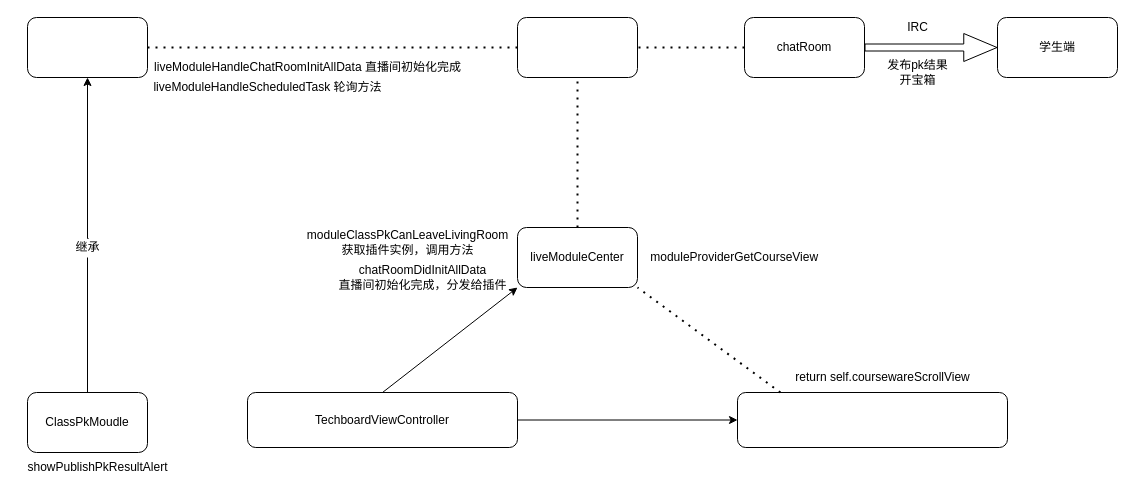
Some shapes in this 1135 by 495 pixel diagram are drawn without their labels. The centre of each missing label's shape, as x and y in pixels:
BaseMoudle: the point at 87,47
businessProvider: the point at 577,47
CoursewareViewController: the point at 872,420
